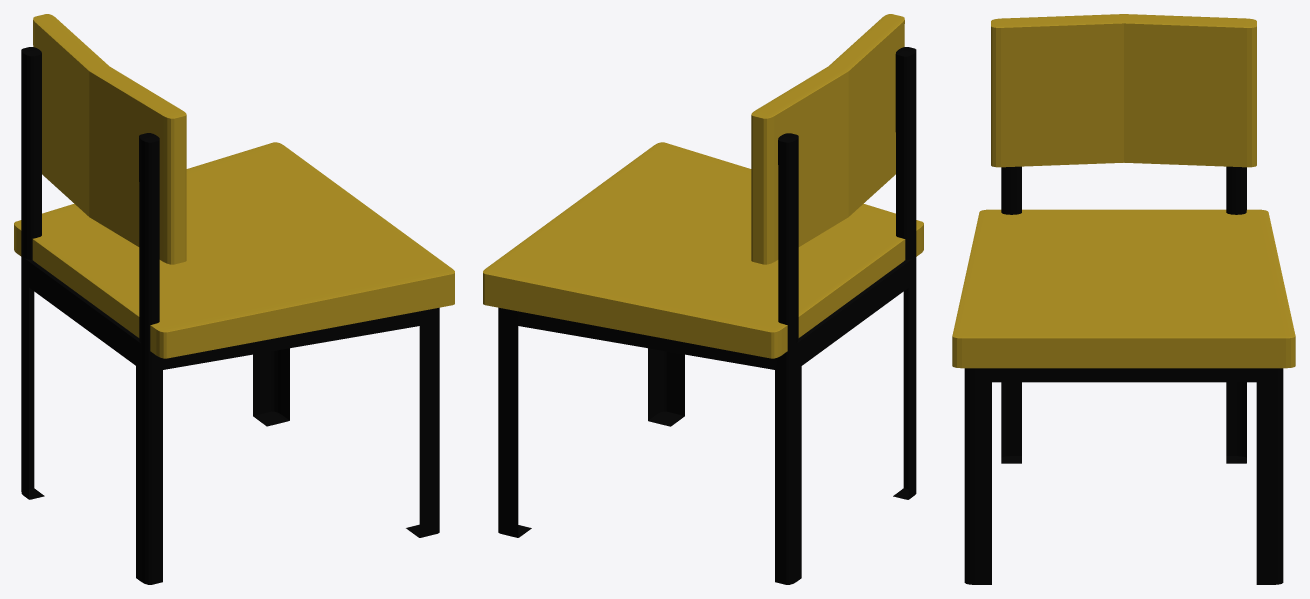
Rendered from chair.fbx.
The picture shows the model from 3 angles, left to right: view 1: azimuth 30°, elevation 25°; view 2: azimuth 150°, elevation 25°; view 3: azimuth 270°, elevation 25°; orthographic projection. The views are drawn at different scales.
Visible parts, largest first — view 1: Cube.001; view 2: Cube.001; view 3: Cube.001.
Boxes of the visible parts, x1=… form: Cube.001: x1=14, y1=14, x2=454, y2=584; Cube.001: x1=483, y1=14, x2=923, y2=584; Cube.001: x1=952, y1=14, x2=1295, y2=584.
Size of the model in its own units: 190 by 297 by 207.
